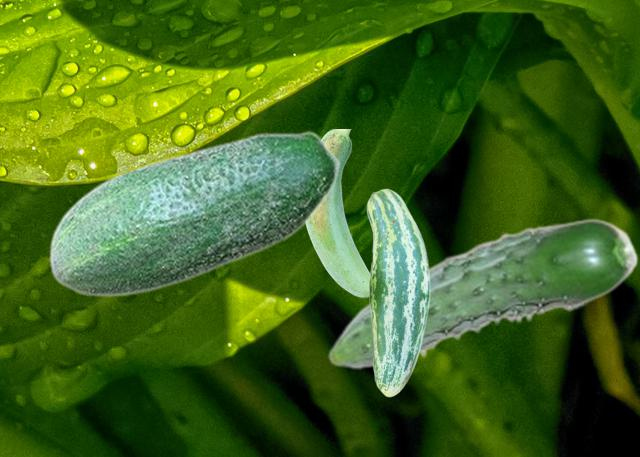cucumber: (48, 130, 340, 296), (327, 218, 638, 368), (366, 188, 429, 396), (306, 129, 369, 296)
